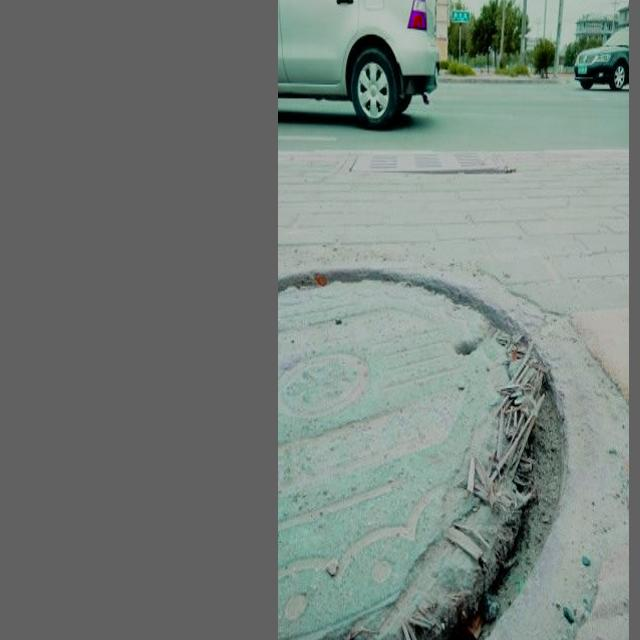circle: (285, 245, 609, 640)
